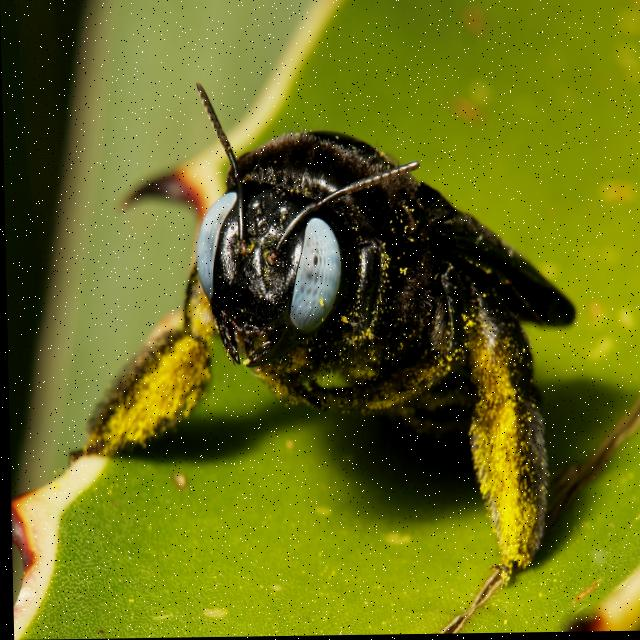Xylocopa: (59, 54, 602, 584)
